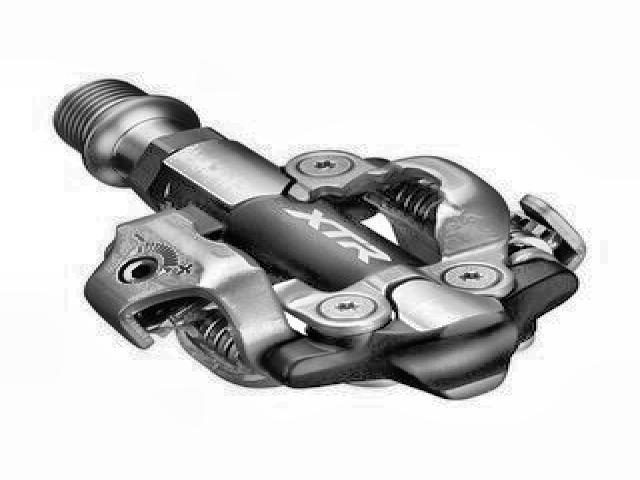pedal: (45, 70, 592, 408)
